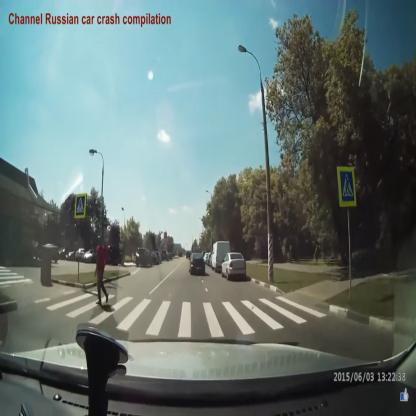crosswalk: (49, 288, 327, 337), (0, 266, 28, 288)
